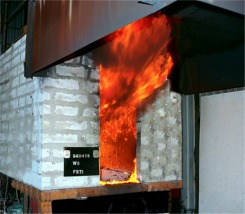fire: (99, 66, 138, 183), (114, 29, 167, 63), (139, 64, 164, 95)
